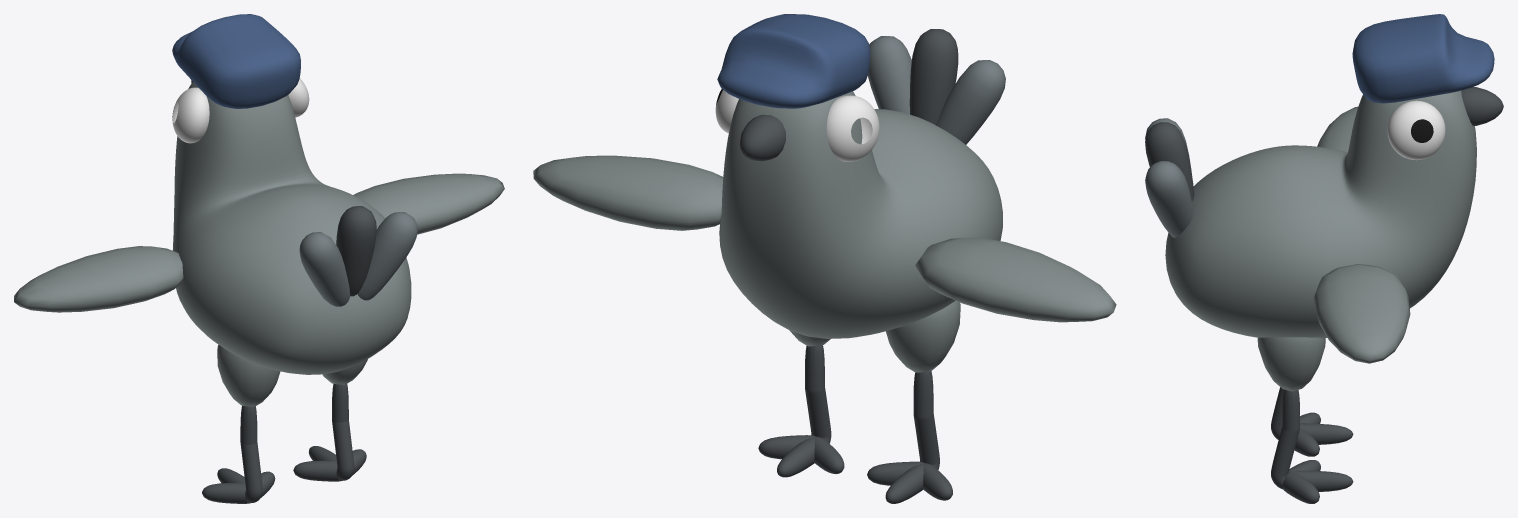
Rendered from player_final.fbx.
The picture shows the model from 3 angles, left to right: view 1: azimuth 30°, elevation 25°; view 2: azimuth 150°, elevation 25°; view 3: azimuth 270°, elevation 25°; orthographic projection. The views are drawn at different scales.
Visible parts, largest first — view 1: Cube.003; view 2: Cube.003; view 3: Cube.003.
Part boxes in pixels (x1,y1,x2,y2): Cube.003: (14, 14, 504, 503); Cube.003: (533, 14, 1116, 503); Cube.003: (1145, 14, 1503, 503).
Bounding box in the file's own units: 265 × 219 × 160.
